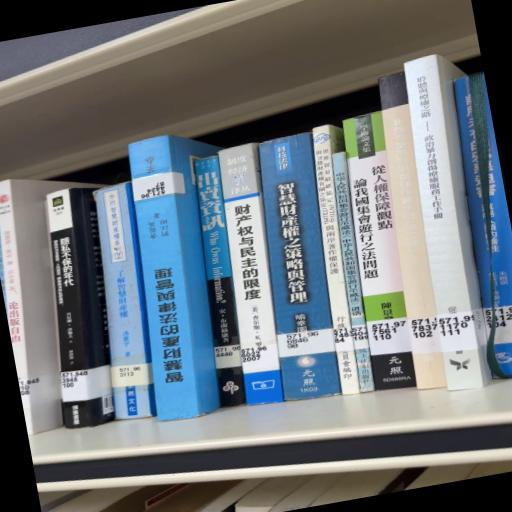reverse: (129, 136, 220, 421)
